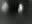person: (3, 2, 9, 15), (19, 4, 25, 15)
